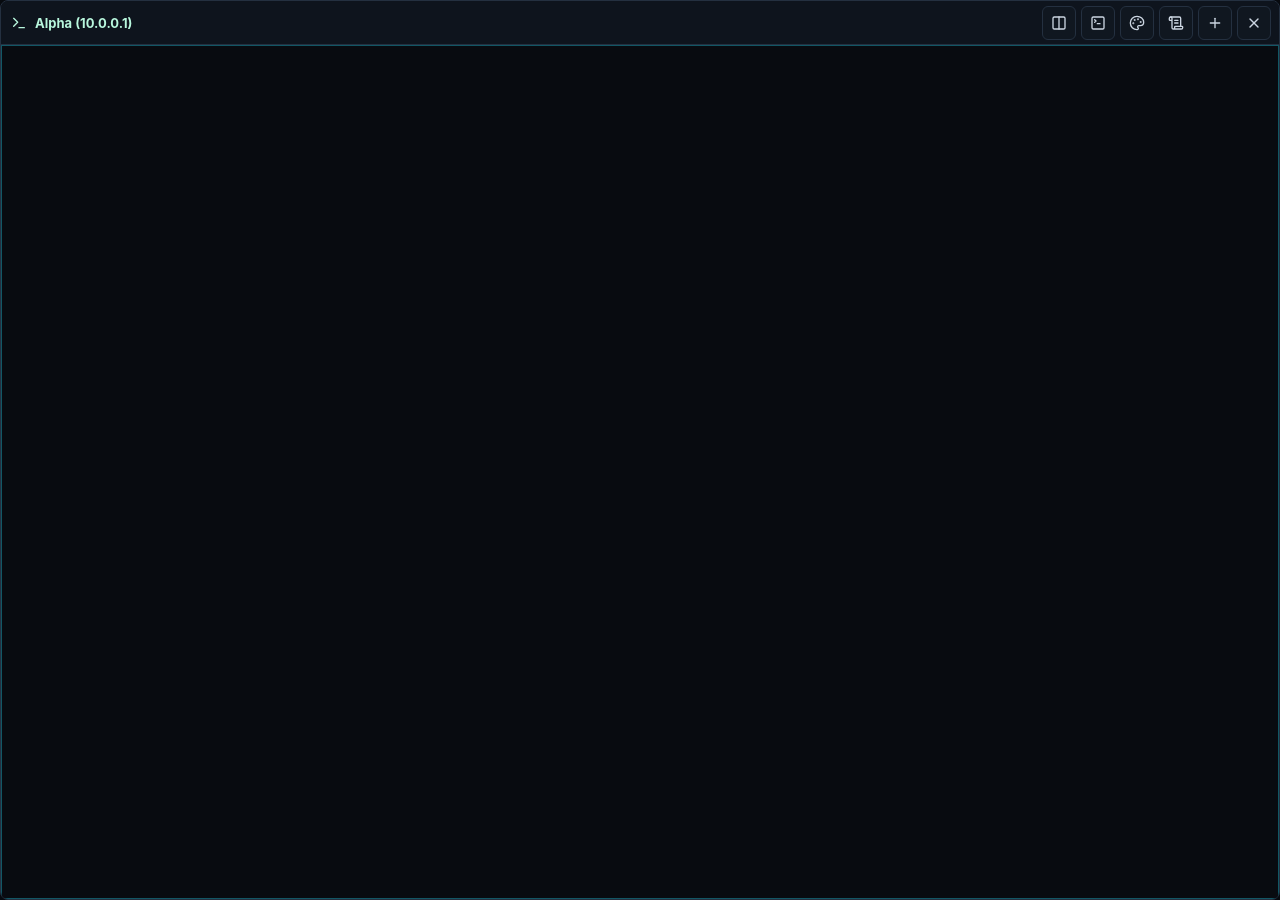
Scenario: TerminalPane multi-session split › adds an already connected session beside the current session
Click the button named "Add another session": (1215, 22) top-left (1198, 6), bottom-right (1232, 40)
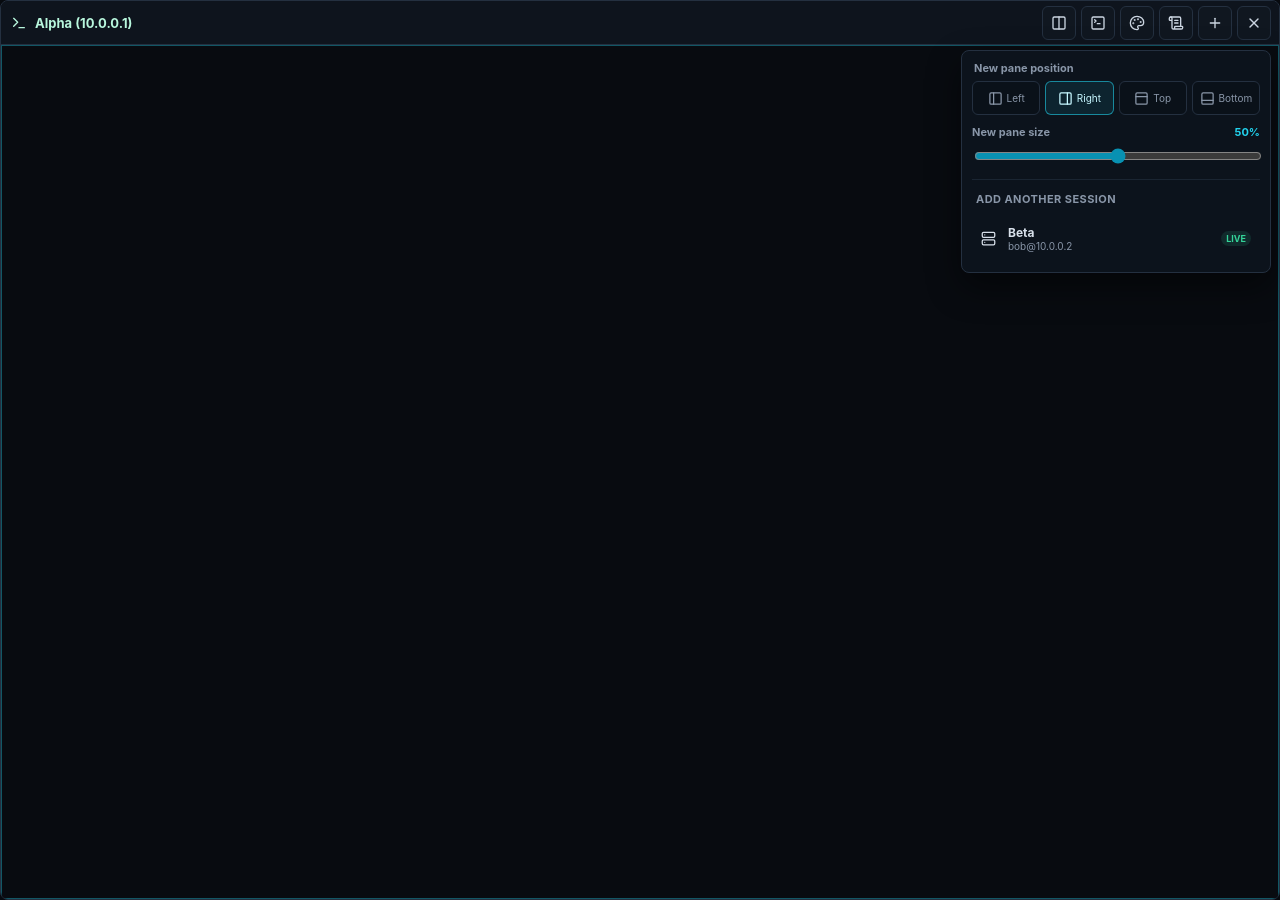
Click the button "Beta bob@10.0.0.2 Live": (1040, 246) top-left (972, 214), bottom-right (1260, 262)
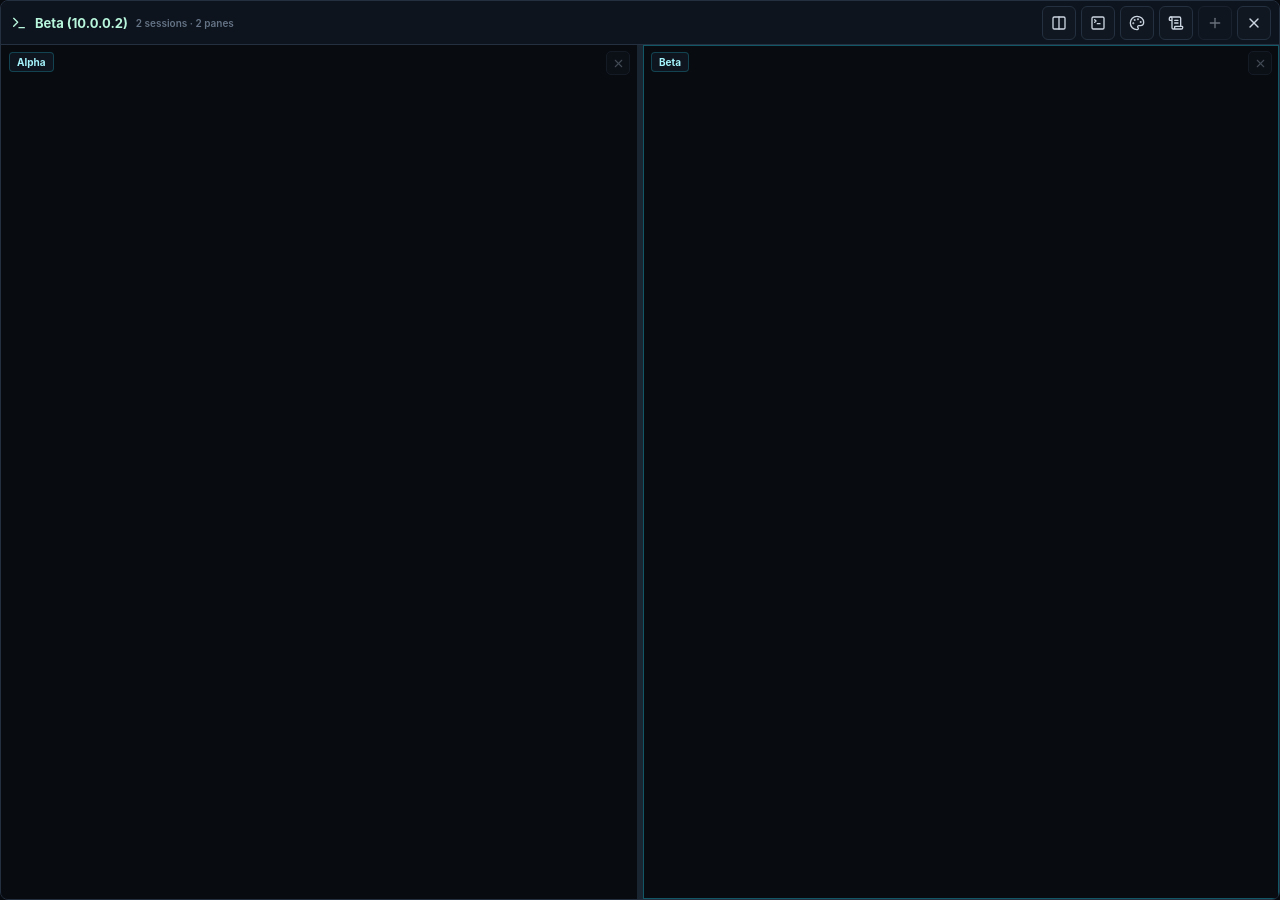
Expected: the element named "Alpha terminal pane" is shown, top-left (1, 45), bottom-right (637, 899)
Now the element named "Beta terminal pane" is shown, box top-left (643, 45), bottom-right (1279, 899)
Now the text "2 sessions · 2 panes" is shown, box top-left (136, 16), bottom-right (234, 28)
